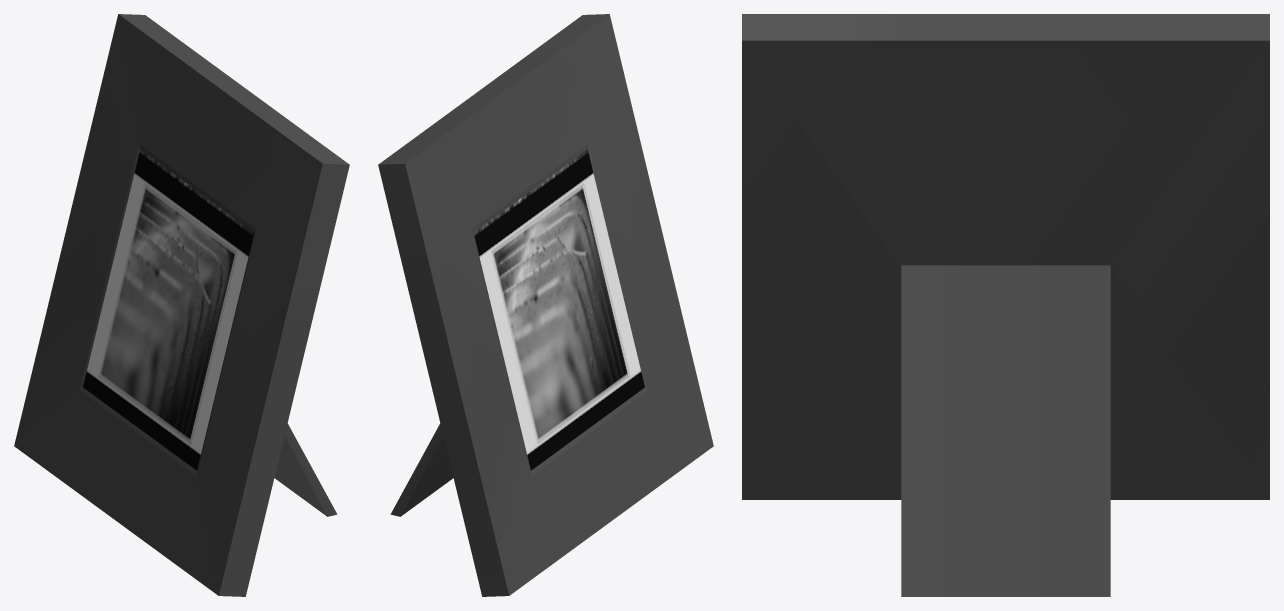
The model's file is FrameBig.FBX.
3 renders of one model, left to right at view 1: azimuth 30°, elevation 25°; view 2: azimuth 150°, elevation 25°; view 3: azimuth 270°, elevation 25°, orthographic. The views are drawn at different scales.
Visible parts, largest first — view 1: Object065; view 2: Object065; view 3: Object065.
Part boxes in pixels (bbox=[...]): Object065: bbox=[14, 14, 349, 596]; Object065: bbox=[378, 14, 713, 596]; Object065: bbox=[742, 14, 1269, 596].
Bounding box in the file's own units: 3.88 × 8.51 × 7.61.
Materials: 1 (1 with a texture image).
